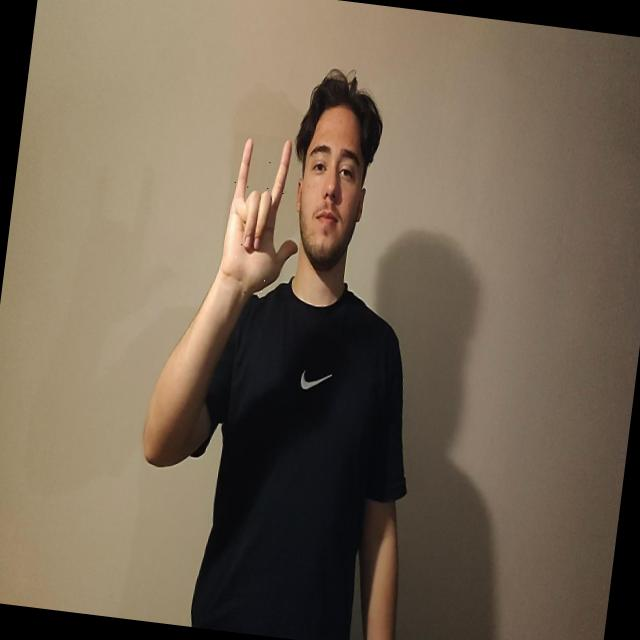iloveyou: (216, 132, 310, 302)
